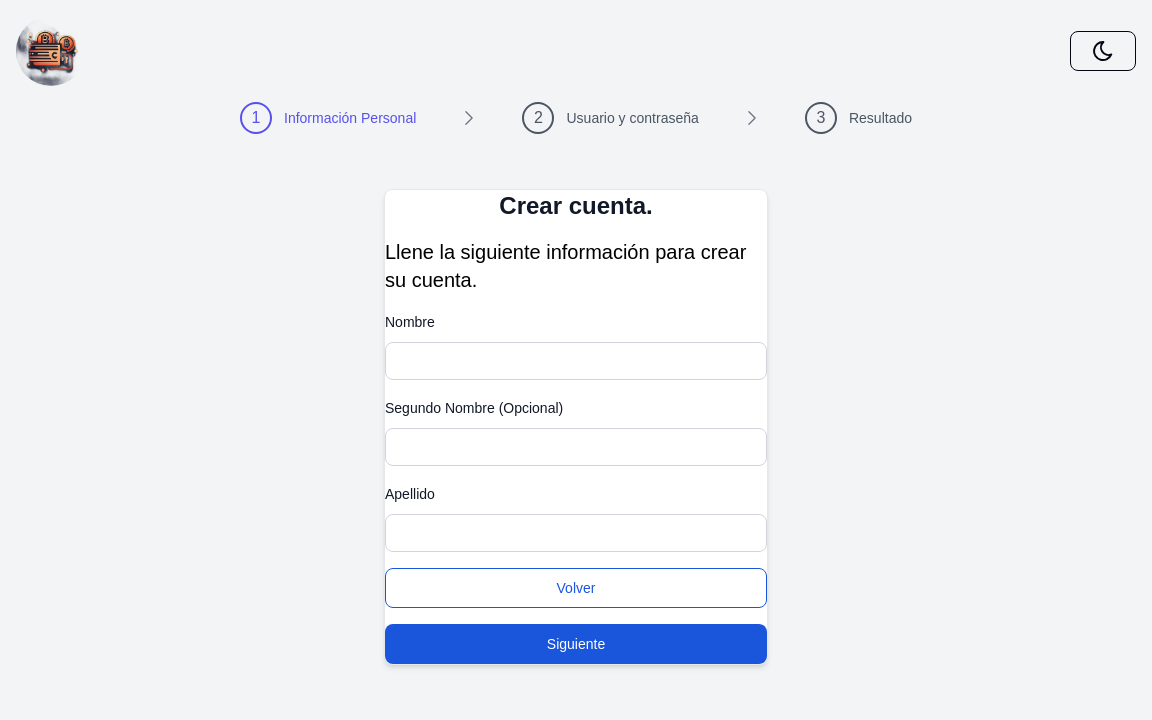
Test: Register › should show the second screen after entering correctly personal information
In the field with test id "firstName": (576, 361) 385,342 -> 767,380, type "John"
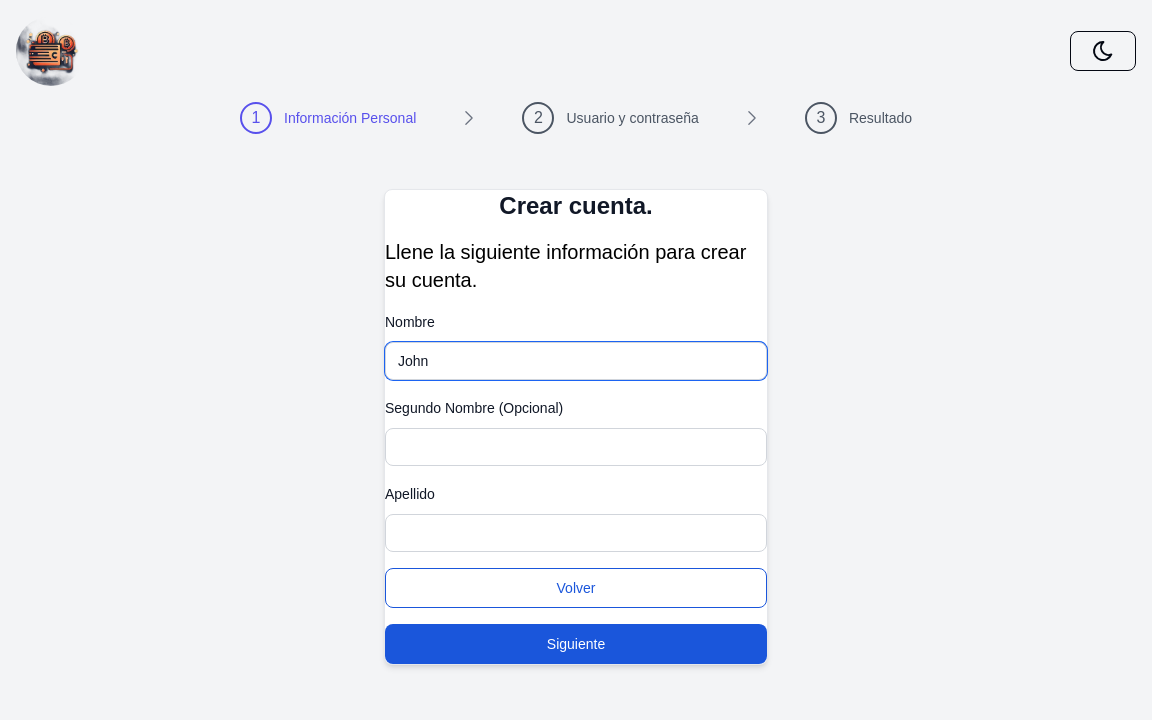
In the field with test id "middleName": (576, 447) 385,428 -> 767,466, type "Paul"
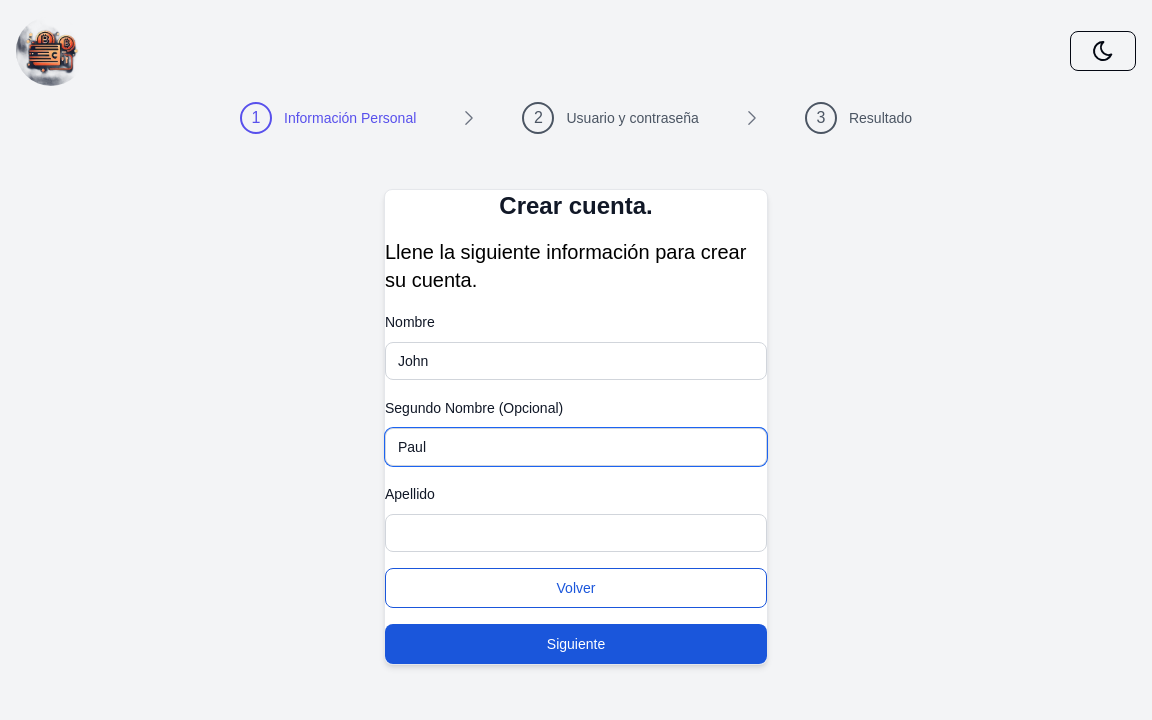
In the field labelled "Apellido": (576, 533) 385,514 -> 767,552, type "Doe"
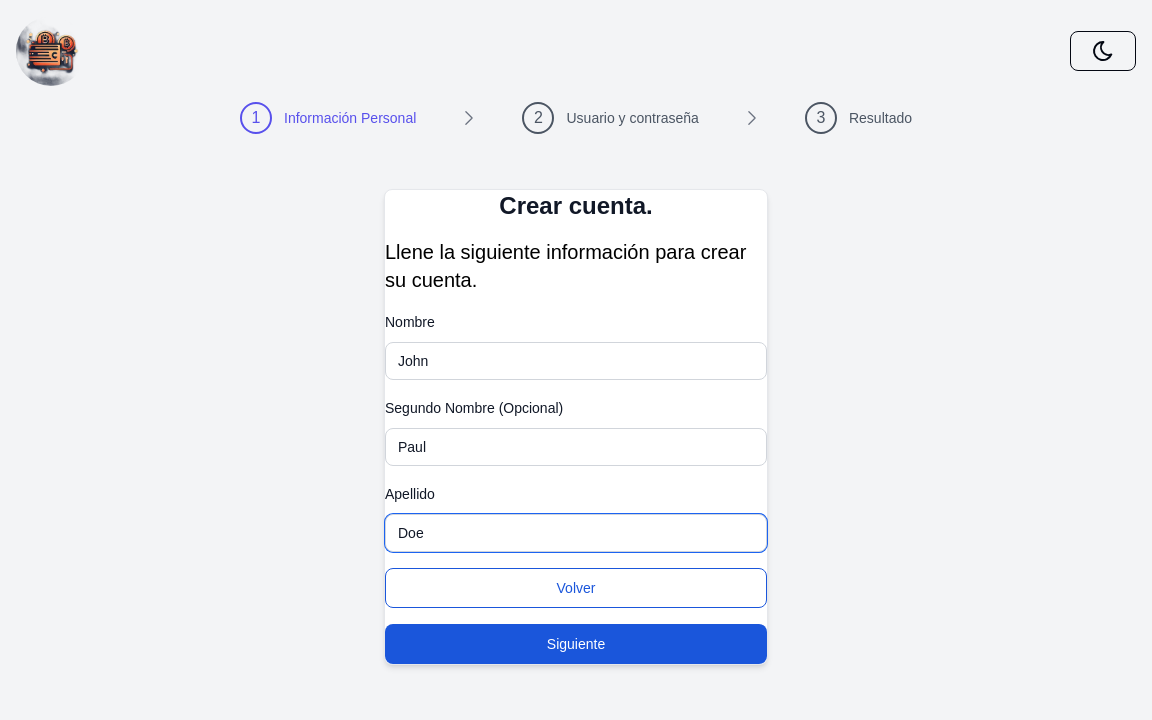
Click the button "Siguiente": click(576, 644) 385,624 -> 767,664
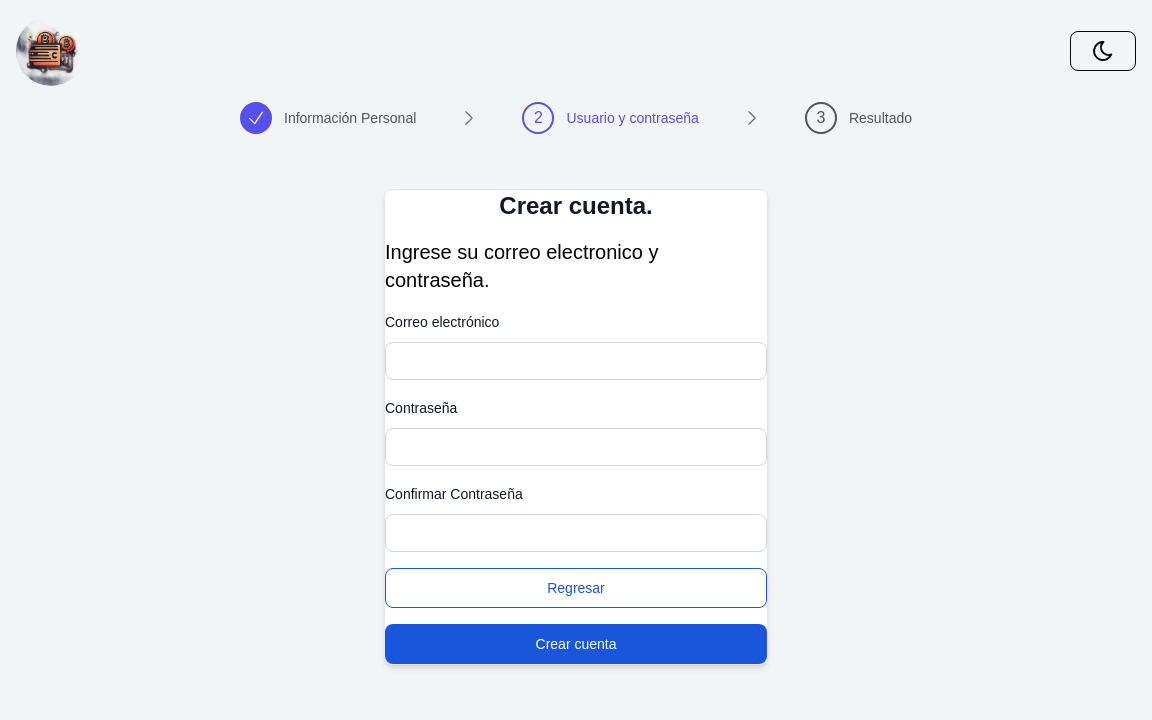
Expected: the text "Ingrese su correo electronico y contraseña." is shown, 385,241 -> 658,291
Expected: the field labelled "Correo electrónico" is shown, 385,342 -> 767,380
Expected: the password field with test id "password" is shown, 385,428 -> 767,466
